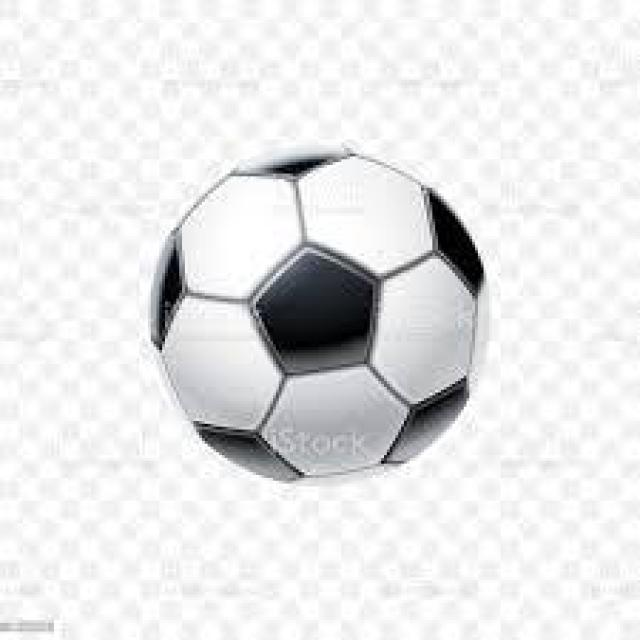Soccer Ball: (151, 145, 492, 489)
